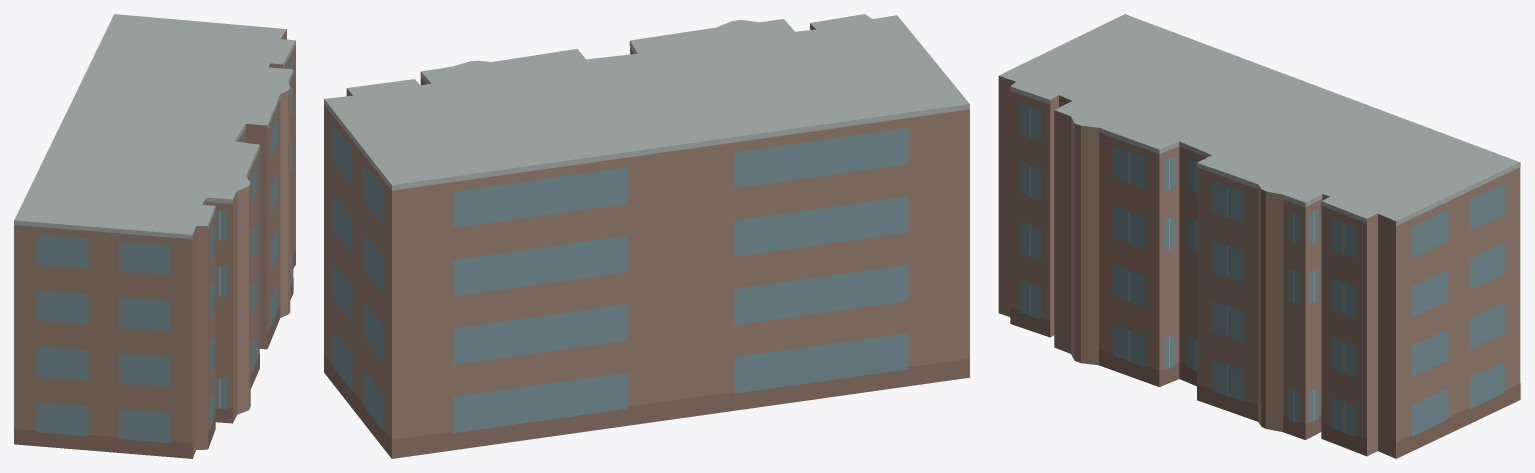
Rendered from survey-upis-32669099.glb.
3 views of the same model, side by side, from view 1: azimuth 30°, elevation 25°; view 2: azimuth 150°, elevation 25°; view 3: azimuth 270°, elevation 25° (orthographic). The views are drawn at different scales.
Visible parts, largest first — view 1: survey-upis-32669099.tmp; view 2: survey-upis-32669099.tmp; view 3: survey-upis-32669099.tmp.
Part boxes in pixels (left/top/right/bottom): survey-upis-32669099.tmp: left=14, top=14, right=295, bottom=458; survey-upis-32669099.tmp: left=324, top=14, right=969, bottom=458; survey-upis-32669099.tmp: left=998, top=14, right=1520, bottom=458.
Size of the model in its own units: 23.15 by 12.36 by 24.62.
